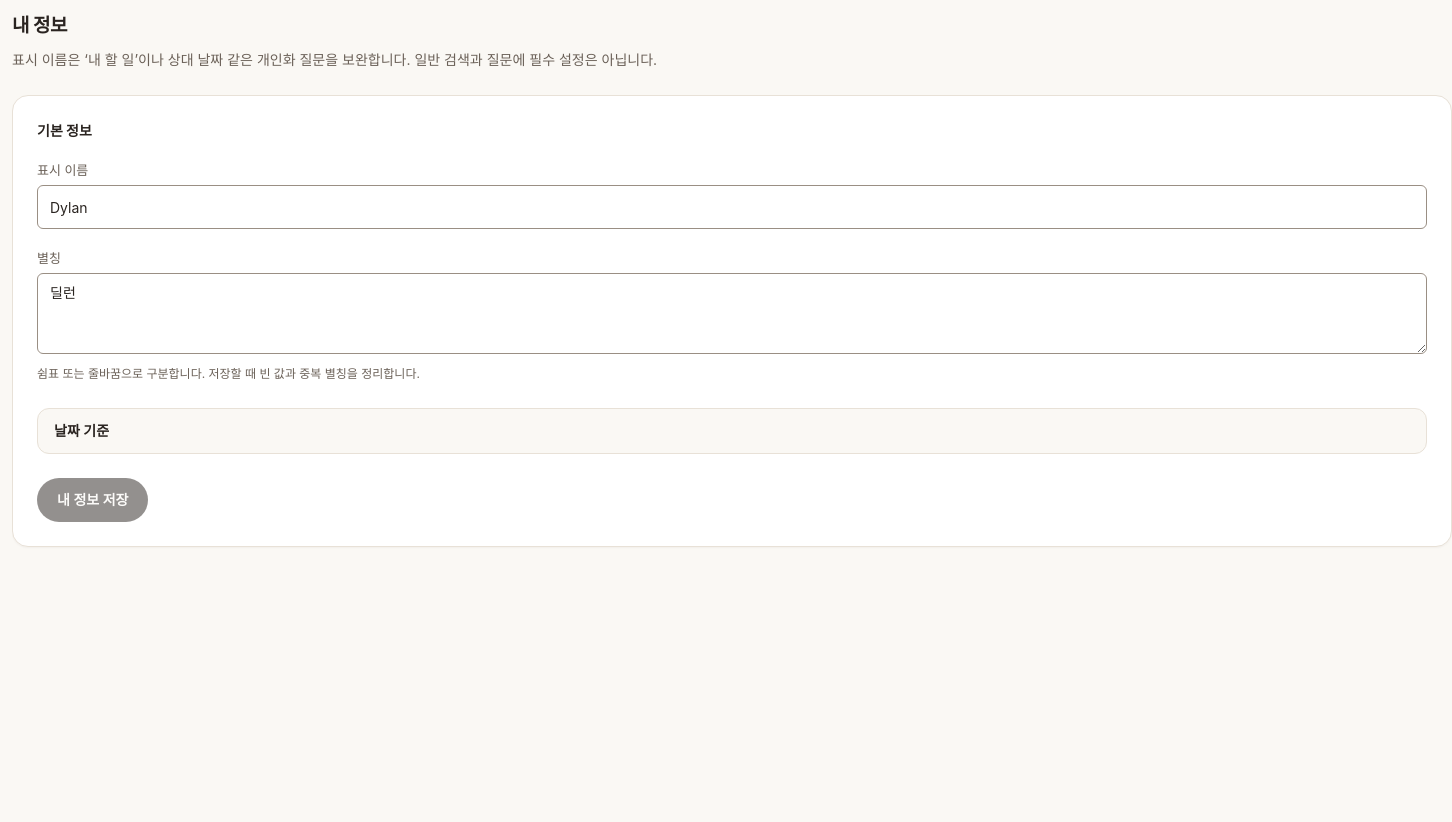
Test: UserProfileForm › shows name and aliases first, with date settings in a closed native disclosure
Expected: the field labelled "표시 이름" holds "Dylan", 37,185 -> 1427,229
Expected: the text box labelled "별칭" holds "딜런", 37,273 -> 1427,354
Click the heading "날짜 기준": (82, 431) 54,422 -> 109,439
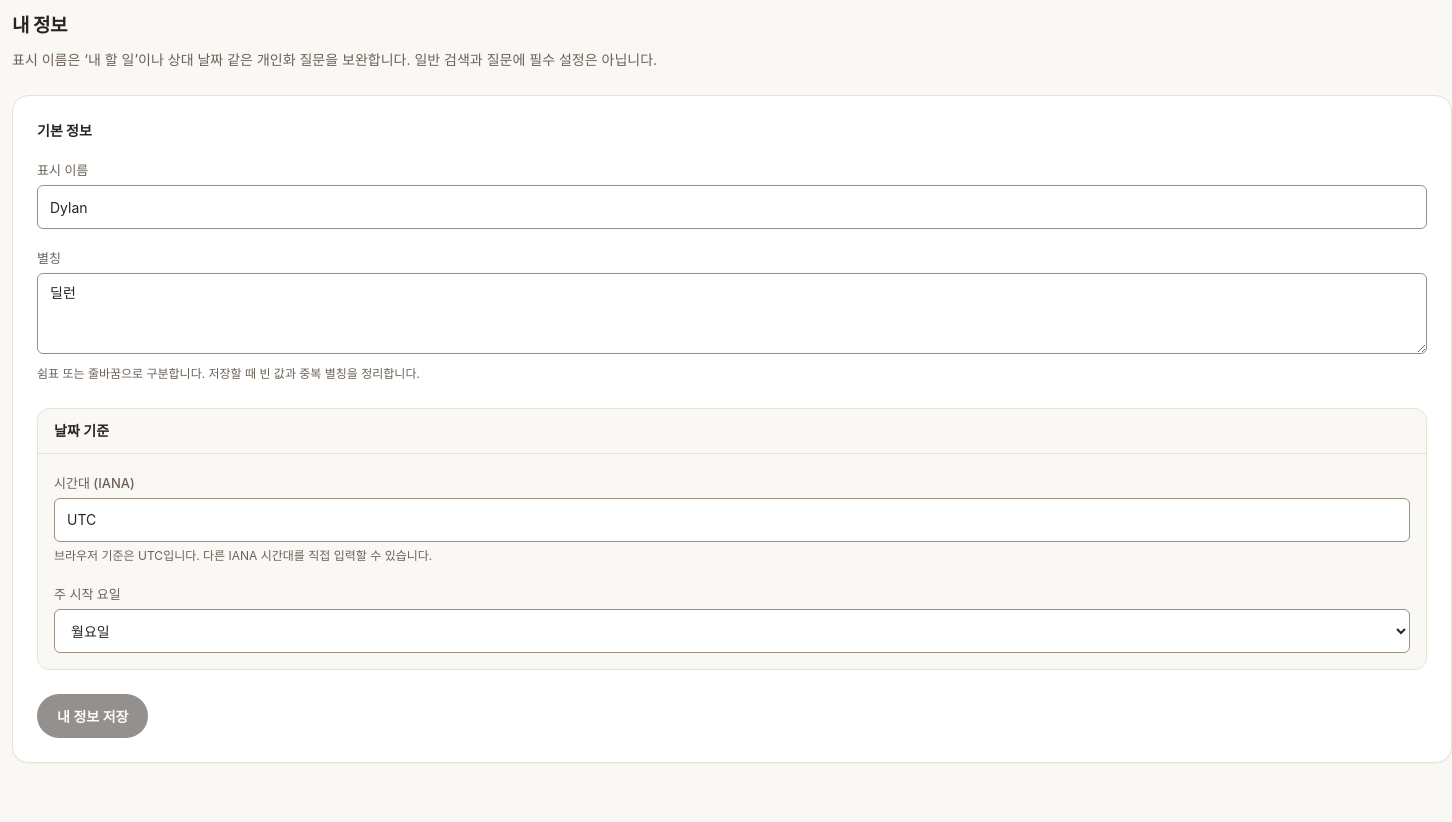
Expected: the field labelled "시간대 (IANA)" holds "UTC", 54,498 -> 1410,542
Expected: the dropdown labelled "주 시작 요일" shows "월요일", 54,609 -> 1410,653
